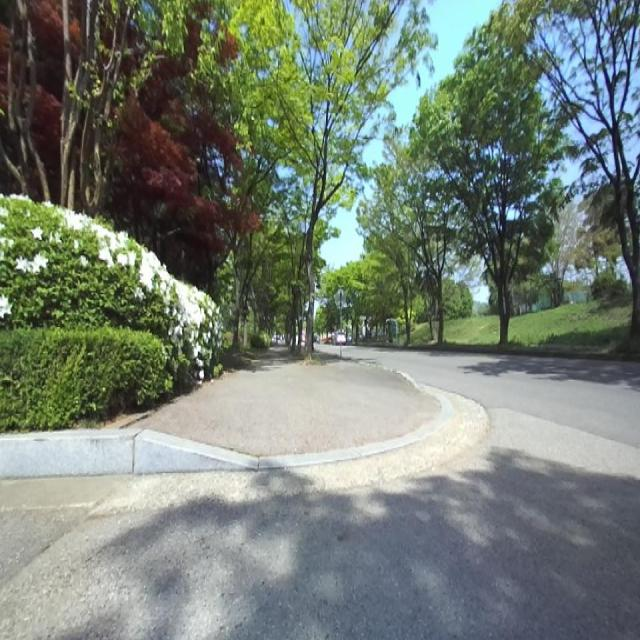sidewalk: (128, 347, 440, 456)
